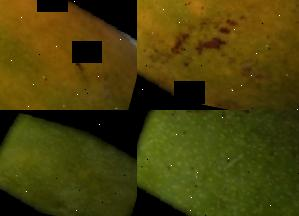PartiallyRipe: (137, 0, 299, 110), (0, 0, 137, 110)
Unripe: (137, 110, 299, 216), (0, 110, 137, 216)
